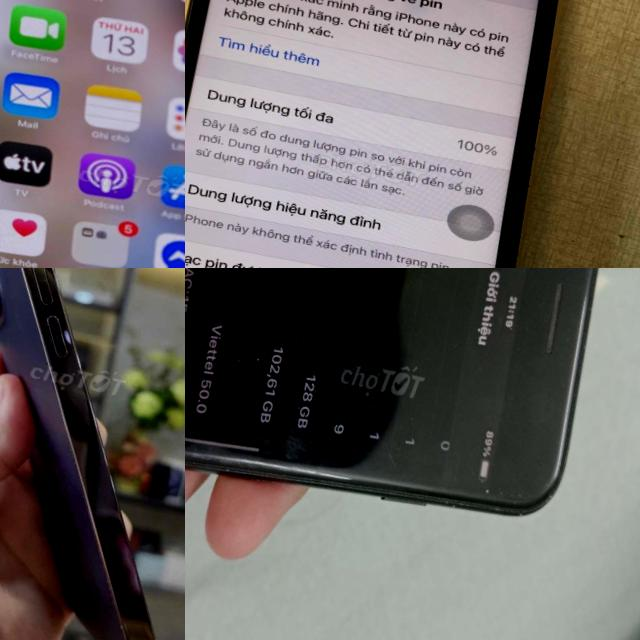scratch: (185, 426, 357, 497), (477, 481, 540, 514)
